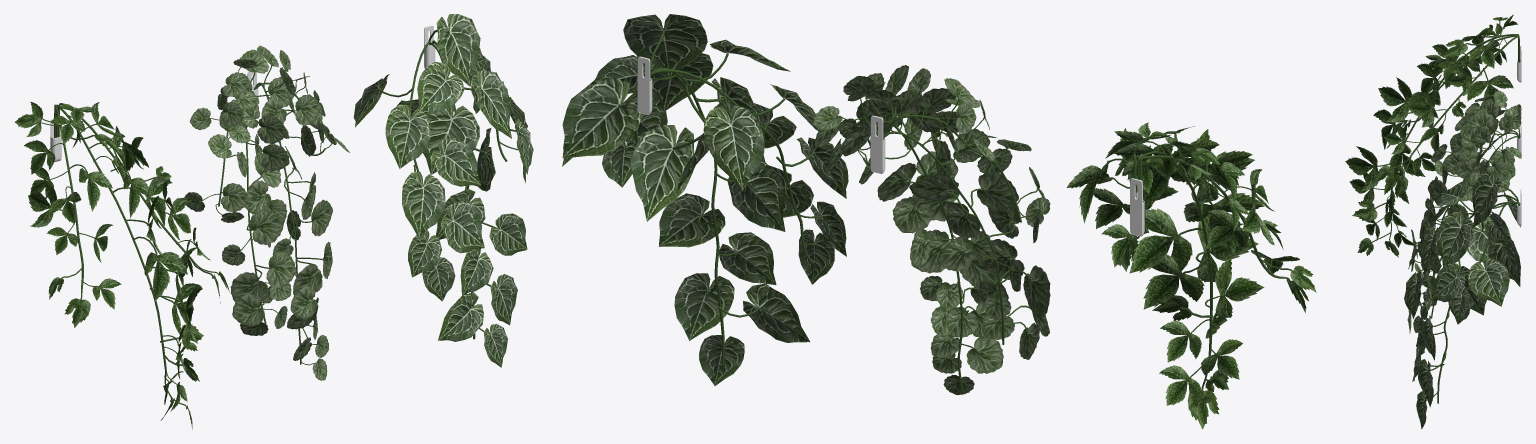
File: fejka_roslina_sztuczna_zestaw_3_sztuk_80630156.glb
3 renders of one model, left to right at view 1: azimuth 30°, elevation 25°; view 2: azimuth 150°, elevation 25°; view 3: azimuth 270°, elevation 25°, orthographic. The views are drawn at different scales.
Visible parts, largest first — view 1: fejka_roslina_sztuczna_zestaw_3_sztuk_80630156; view 2: fejka_roslina_sztuczna_zestaw_3_sztuk_80630156; view 3: fejka_roslina_sztuczna_zestaw_3_sztuk_80630156.
Boxes of the visible parts, bbox=[...] form: fejka_roslina_sztuczna_zestaw_3_sztuk_80630156: bbox=[14, 14, 533, 429]; fejka_roslina_sztuczna_zestaw_3_sztuk_80630156: bbox=[562, 14, 1316, 429]; fejka_roslina_sztuczna_zestaw_3_sztuk_80630156: bbox=[1345, 14, 1521, 429].
Bounding box in the file's own units: 0.9539 × 0.5703 × 0.3554.
5 materials, 4 textured.
